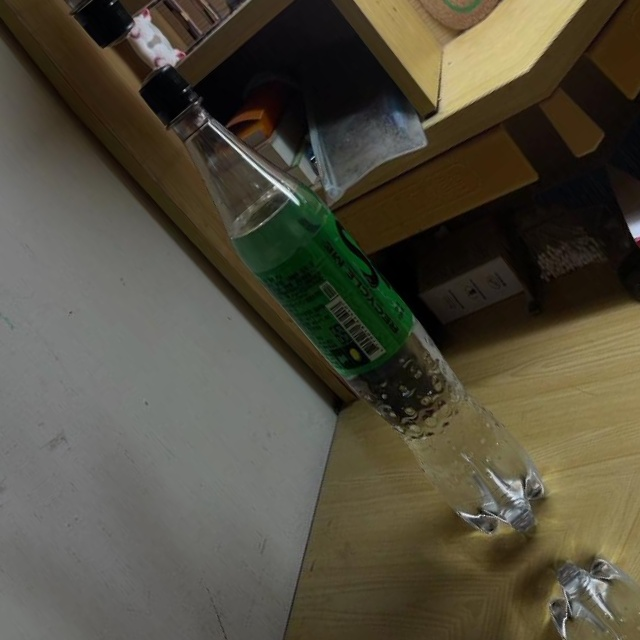Sprite: (111, 40, 572, 561)
